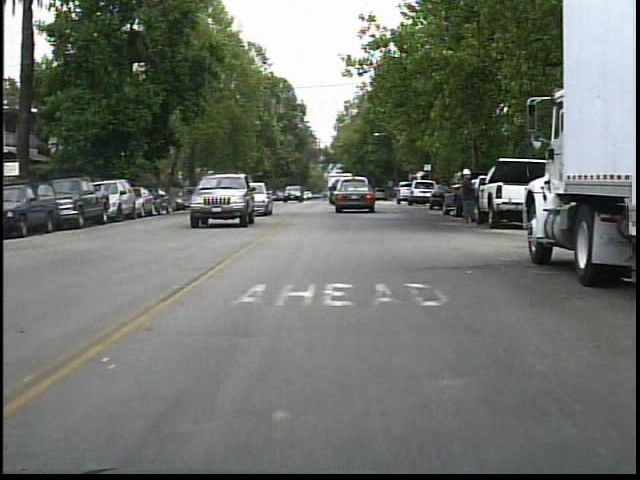person: (454, 165, 483, 230)
